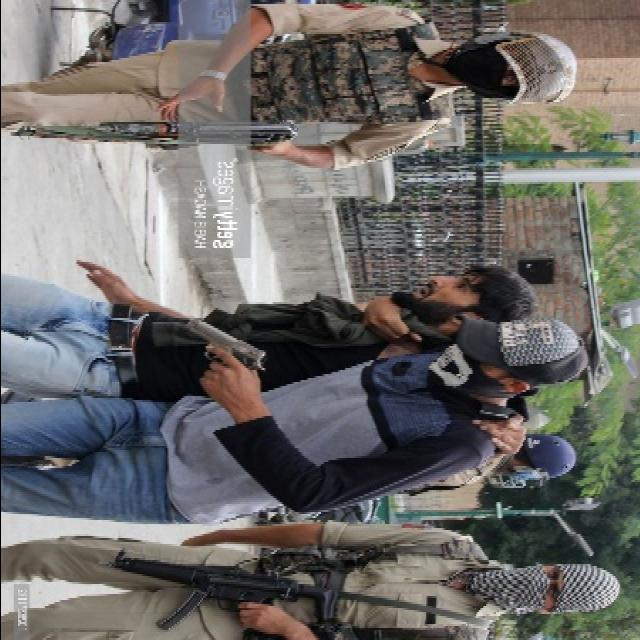handgun: (189, 311, 276, 383)
